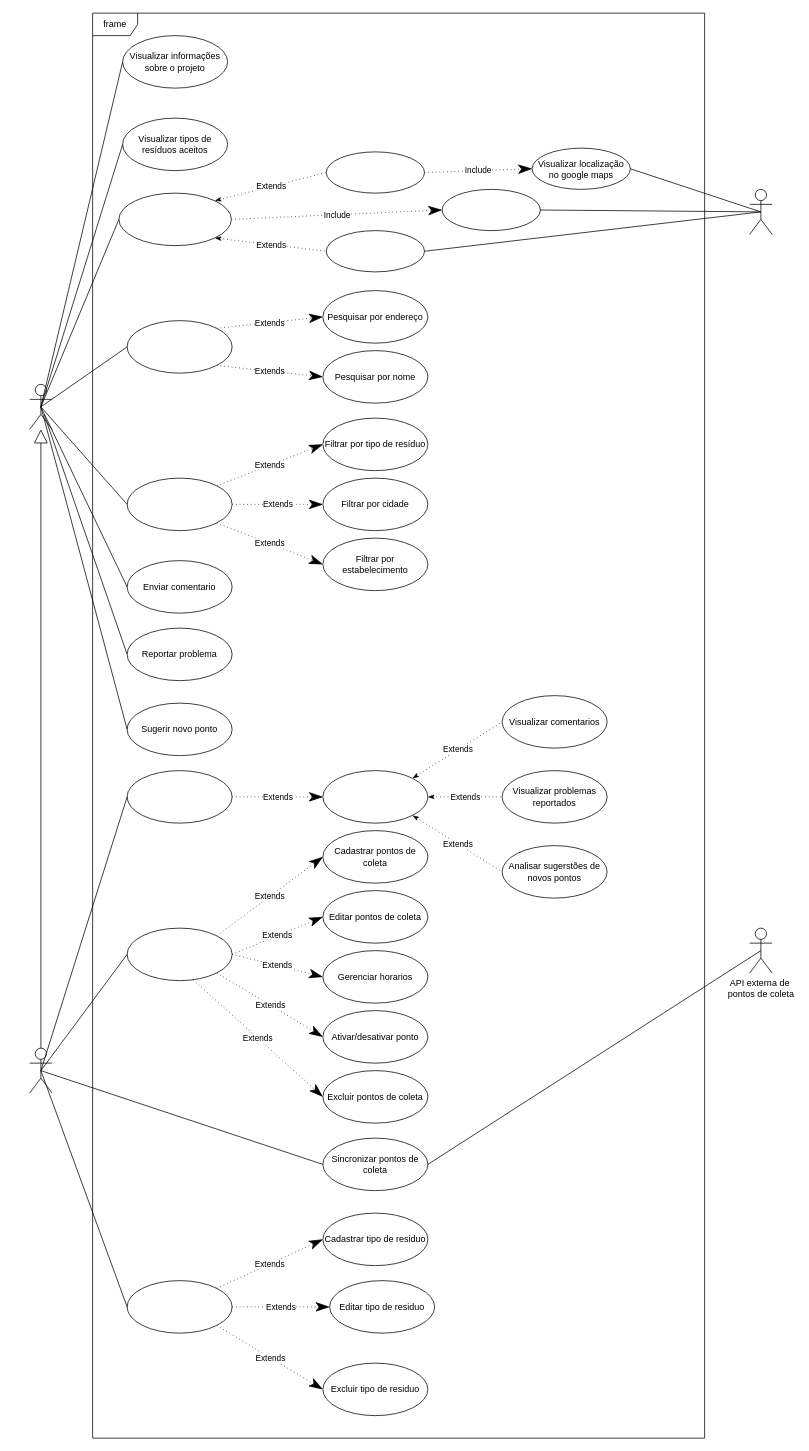
Image size: 809x1451. Some labels were removed from this diagram. Here are the shapes that lost their labels. From the top down, the box of each, then its label:
(326, 151, 424, 193): Visualizar detalhes do ponto
(118, 192, 231, 246): Visualizar pontos de coleta
(441, 189, 540, 231): Exibir pontos no mapa
(749, 189, 772, 234): API Google Maps
(326, 230, 424, 272): Ordenar por proximidade
(126, 320, 232, 373): Realizar pesquisa
(29, 384, 52, 429): Usuário
(126, 477, 232, 531): Realizar filtro
(126, 770, 232, 823): Acessar pagina de controle
(322, 770, 428, 823): Visualizar dashboard
(126, 927, 232, 981): Gerenciar pontos de coleta
(29, 1047, 52, 1093): Administrador
(126, 1280, 232, 1333): Gerenciar tipos de residuos
